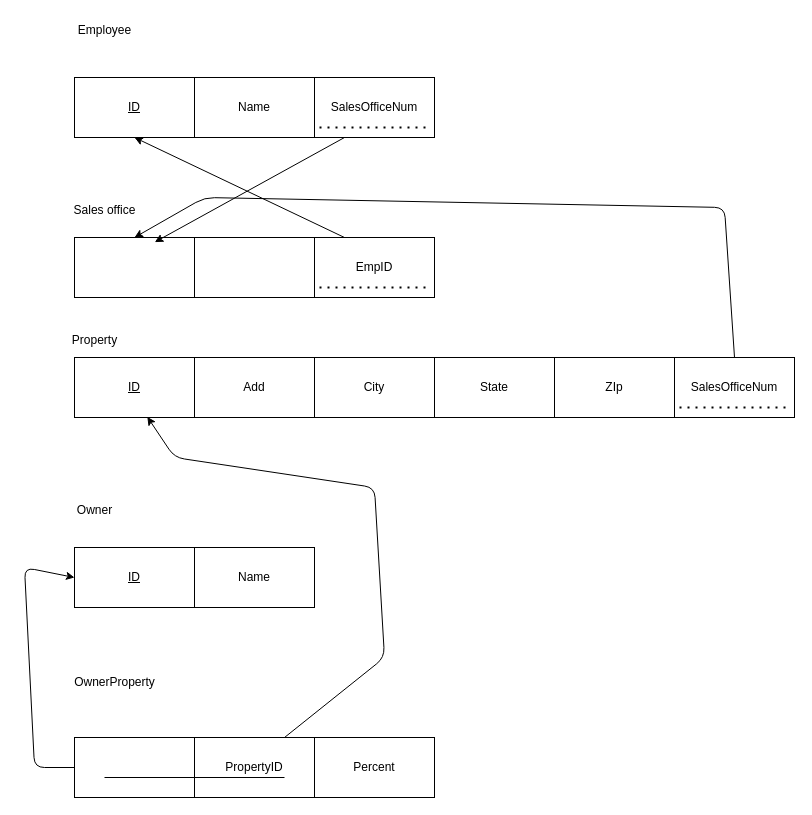
Some shapes in this 812 by 815 pixel diagram are drawn without their labels. The box of each missing label's shape, as (x1, y1, x2, y2) in pixels:
Loc: (194, 236, 314, 298)
NUM: (74, 236, 194, 298)
OwnerID: (74, 736, 194, 798)
